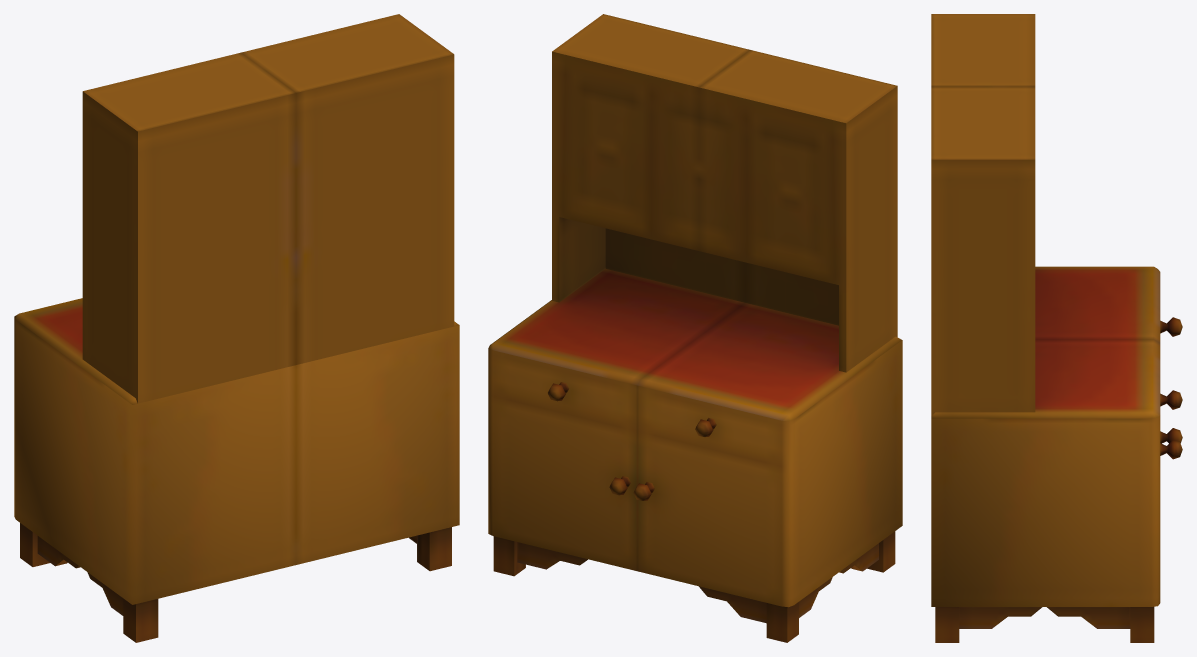
File: Kitchen_Cupborad_04.gltf
The picture shows the model from 3 angles, left to right: view 1: azimuth 30°, elevation 25°; view 2: azimuth 150°, elevation 25°; view 3: azimuth 270°, elevation 25°; orthographic projection. The views are drawn at different scales.
Visible parts, largest first — view 1: Kitchen_Cupborad_04; view 2: Kitchen_Cupborad_04; view 3: Kitchen_Cupborad_04.
Boxes of the visible parts, x1=… form: Kitchen_Cupborad_04: x1=14, y1=14, x2=459, y2=642; Kitchen_Cupborad_04: x1=488, y1=14, x2=902, y2=642; Kitchen_Cupborad_04: x1=931, y1=14, x2=1182, y2=642.
Bounding box in the file's own units: 41.86 × 62.71 × 29.55.
Materials: 1 (1 with a texture image).
